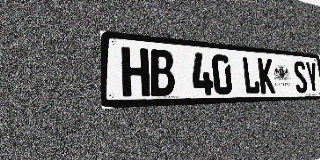0: (211, 54, 233, 95)
4: (191, 52, 214, 95)
B: (149, 49, 175, 96)
H: (121, 47, 150, 97)
K: (257, 58, 276, 94)
L: (241, 56, 261, 94)
S: (293, 61, 308, 93)
Y: (305, 61, 319, 93)
